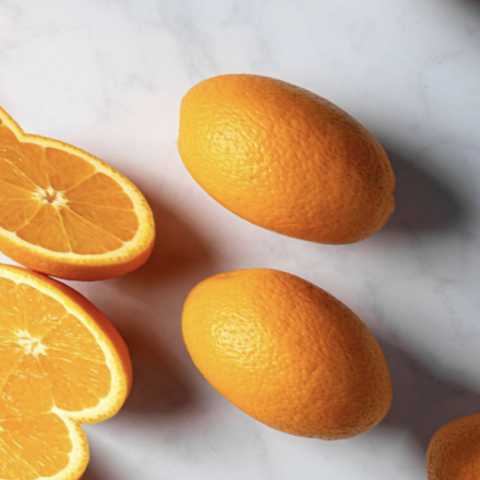orange: (135, 29, 434, 297), (139, 220, 427, 480)
